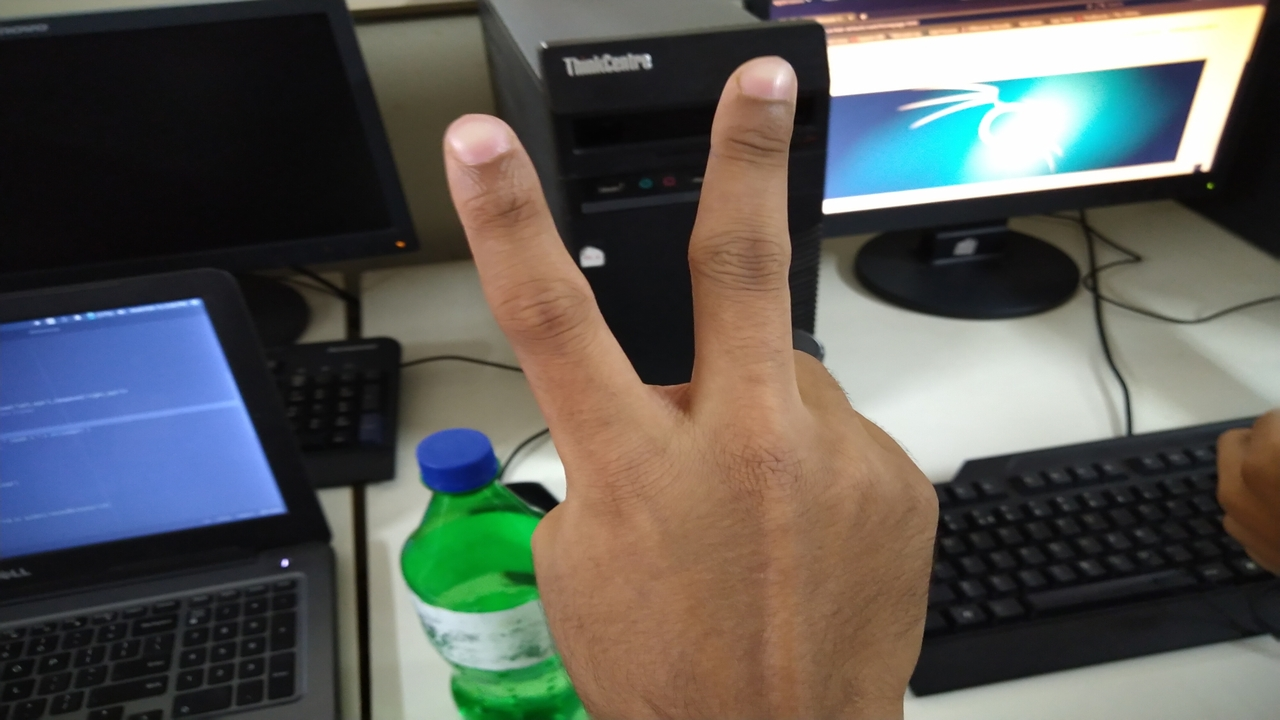fingertip: (430, 108, 522, 182), (714, 48, 804, 122)
